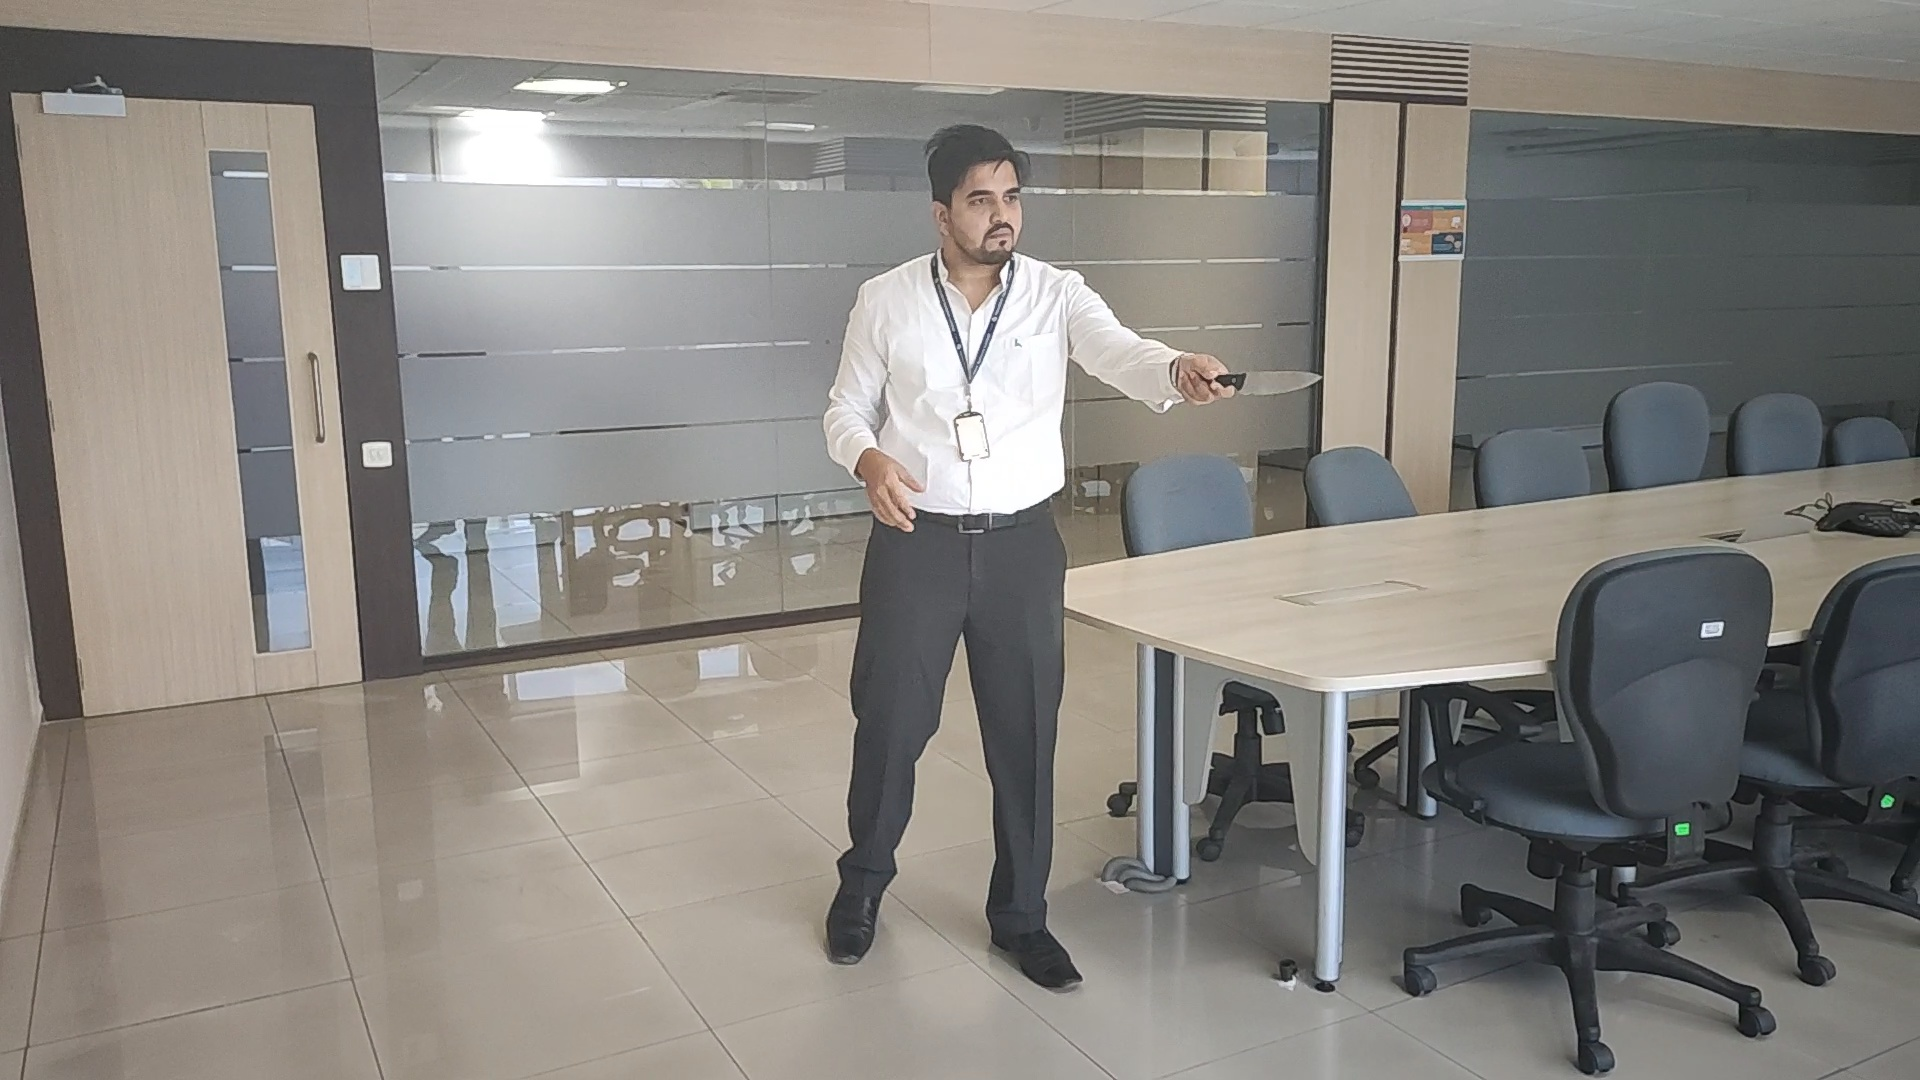knife: (1234, 371, 1325, 396)
